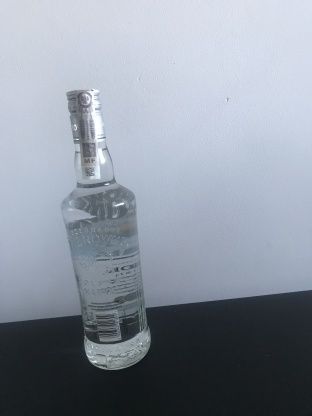nakretka: (64, 85, 107, 146)
